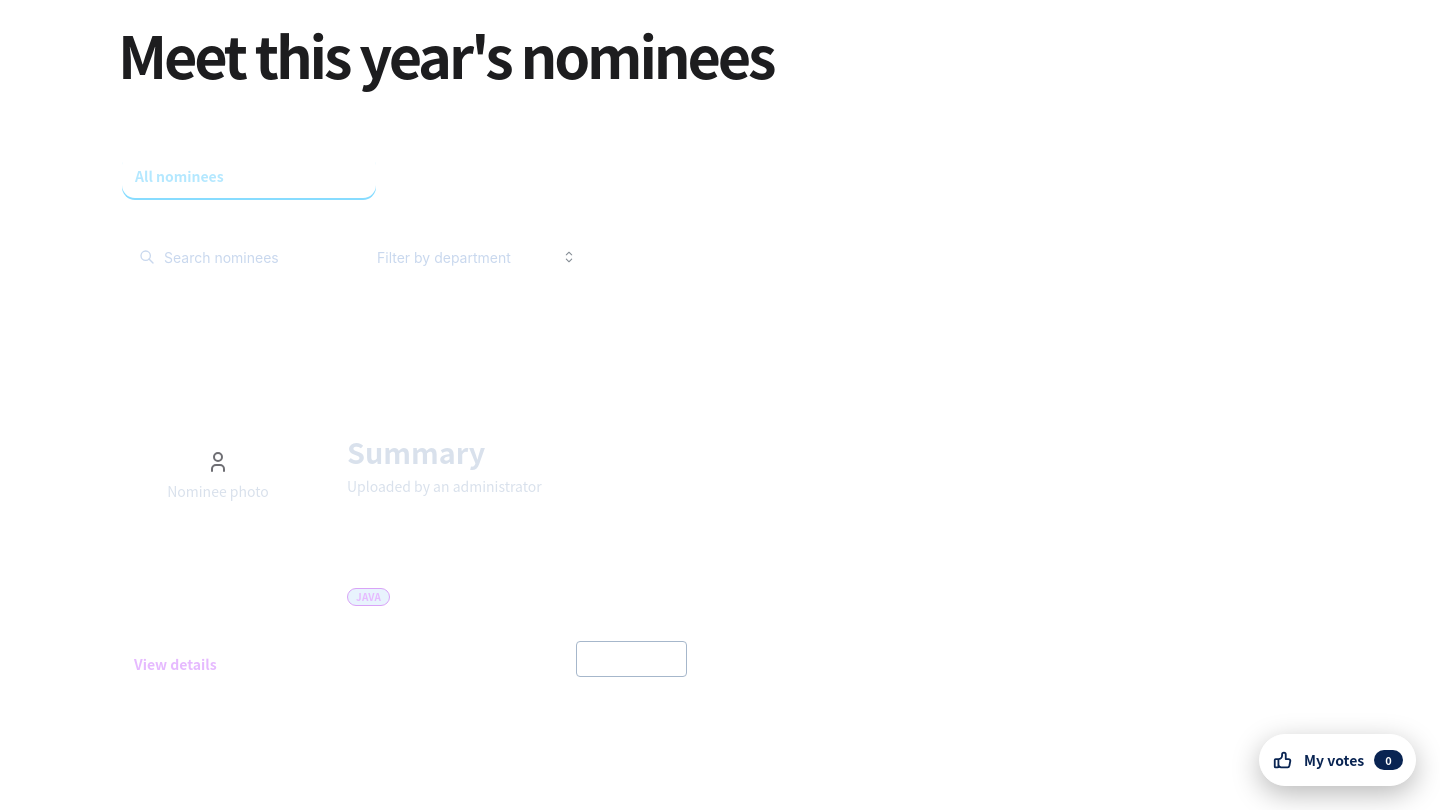
Test: ProjectShowcase › keeps nomination details open when voting fails: Each participant can cast at most 4 votes per award category.
Click the button "View details" at (175, 664), box [129,651,222,677]
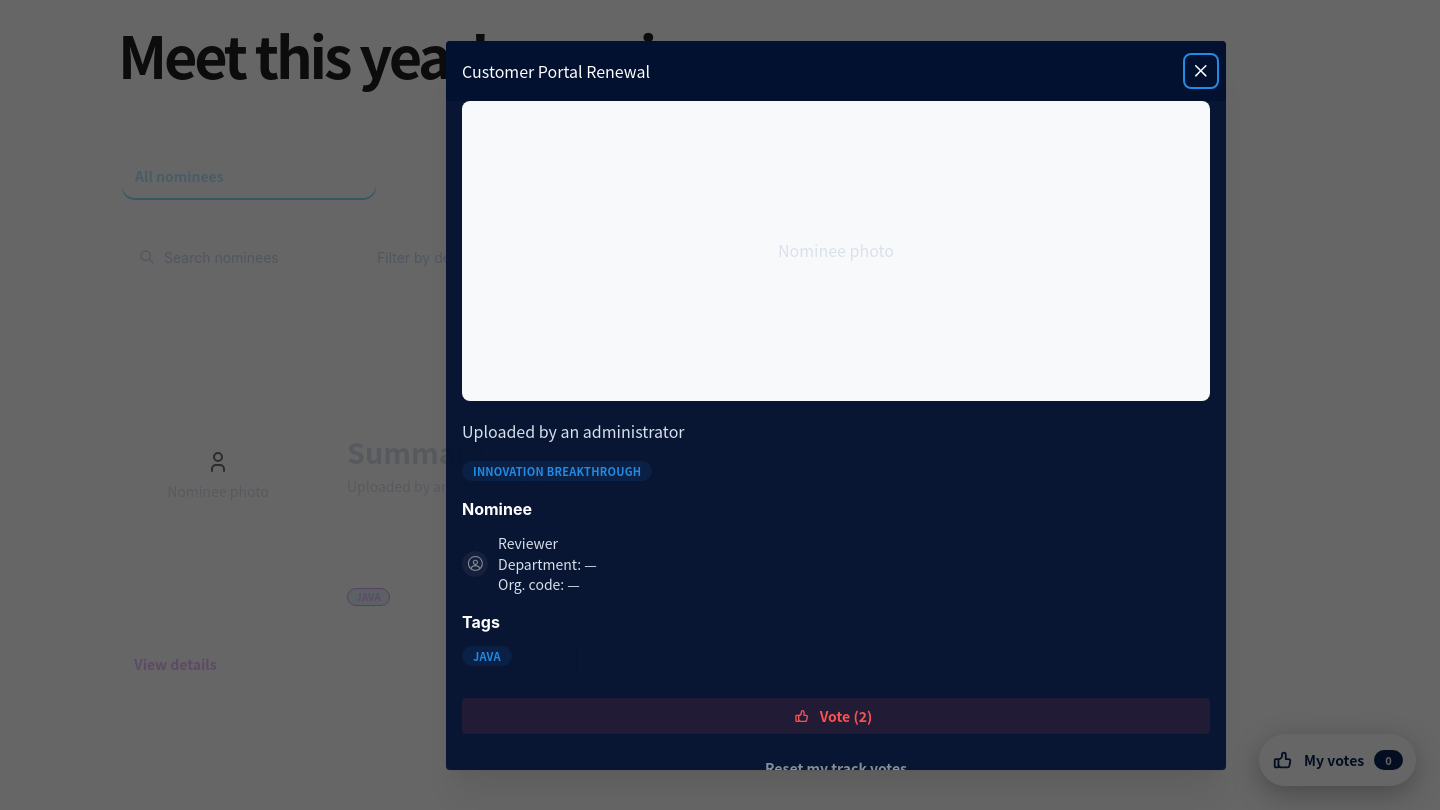
Click the button "Vote (2)" at (836, 716), box [462,698,1210,734]
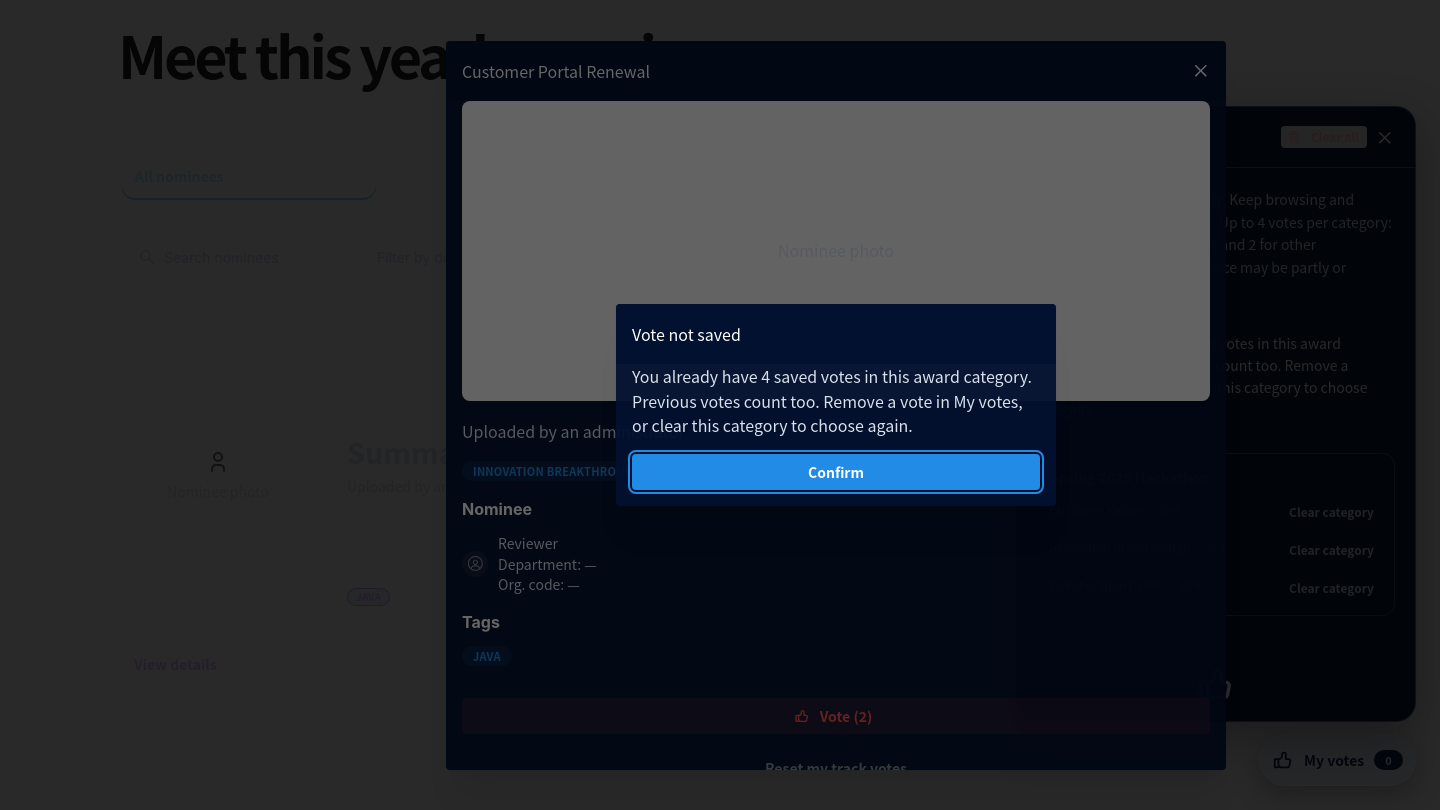
Expected: the message shows "Previous votes count too", [632,364,1032,437]
Press Escape
Expected: the dialog "Vote not saved" is shown, [616,304,1056,506]
Click the button "Confirm" at (836, 472), box [632,454,1040,490]
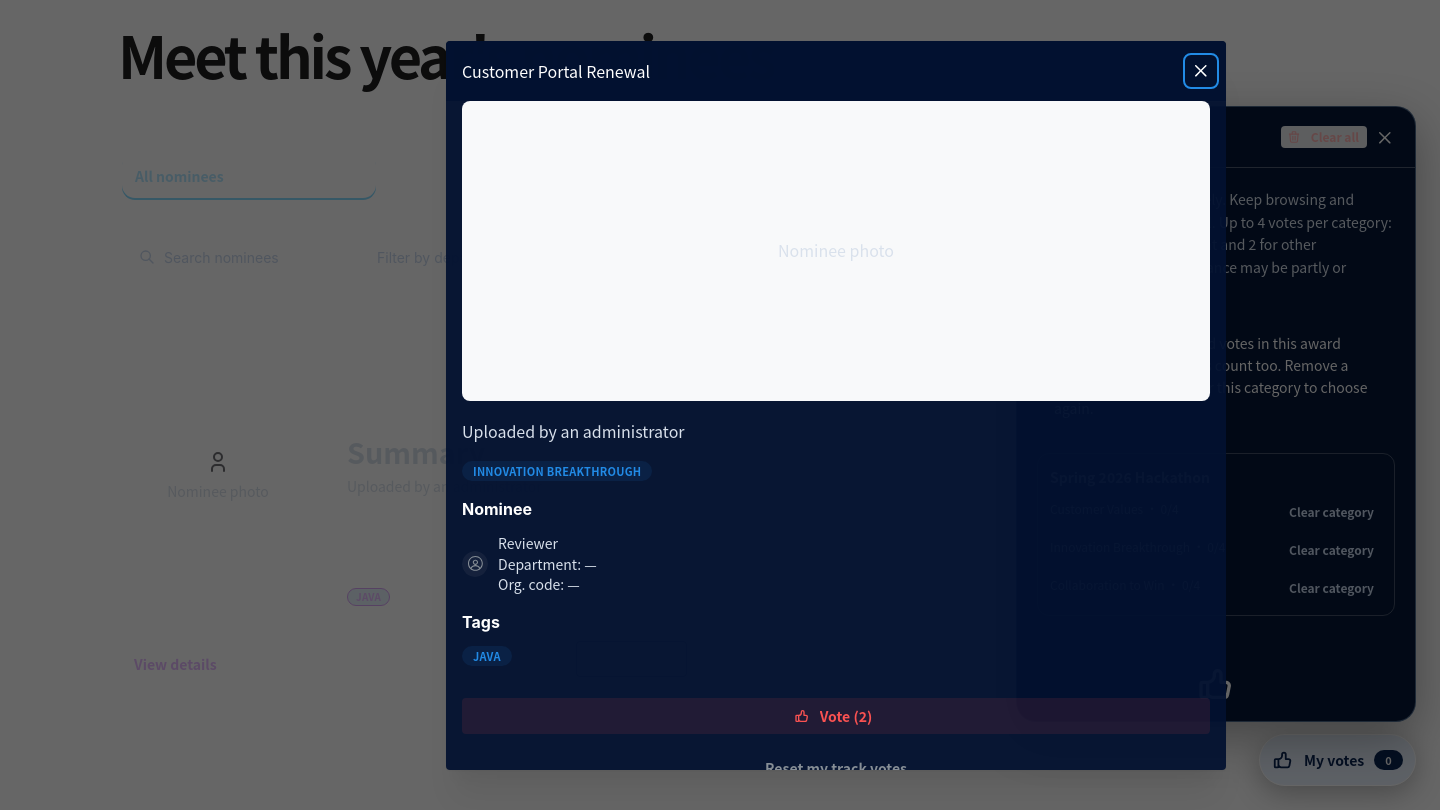
Expected: the dialog "Customer Portal Renewal" is shown, [446,40,1226,770]
Expected: the button "Vote (2)" is enabled, [462,698,1210,734]
Expected: the heading "Vote not saved" is gone
